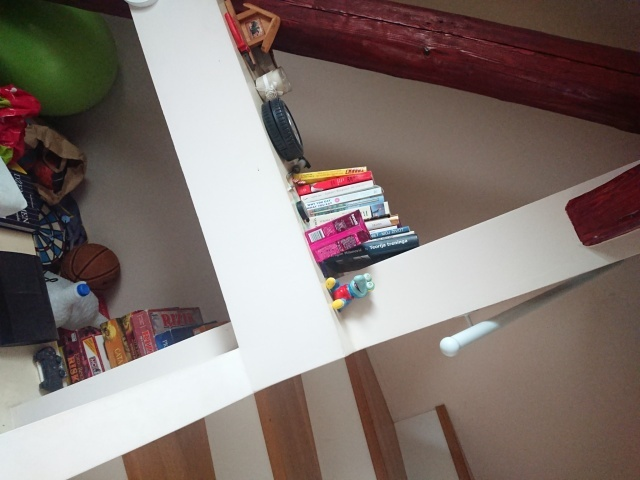Barcaffe Classic Original 225g: (303, 207, 374, 265)
